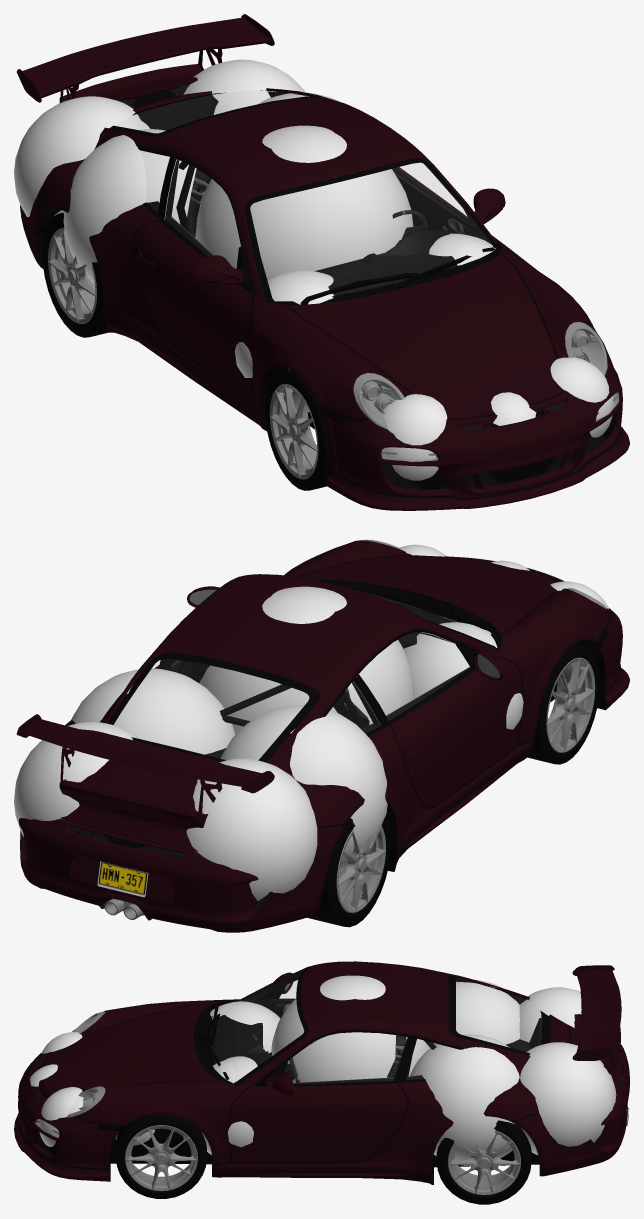
The model's file is Sportscar.glb.
3 views of the same model, one above another, from view 1: azimuth 30°, elevation 25°; view 2: azimuth 150°, elevation 25°; view 3: azimuth 270°, elevation 25° (orthographic). The views are drawn at different scales.
Parts seen in each view (by area): view 1: body, Sphere.003, door_front_right, Sphere.010, Sphere.006, wheel_front_right, wheel_rear_right, Sphere.008, Sphere.004, door_front_left, Sphere, Sphere.007 (+2 smaller); view 2: body, door_front_right, Sphere.006, Sphere.010, Sphere.003, Sphere.005, wheel_front_right, wheel_rear_right, Sphere.004, Sphere.007, door_front_left; view 3: body, door_front_left, Sphere.005, Sphere.004, Sphere.003, wheel_front_left, wheel_rear_left, Sphere.010, Sphere.006, Sphere.007, Sphere.001, Sphere (+2 smaller).
Part boxes in pixels (x1,y1,x2,y2): body: [16, 14, 629, 510]; Sphere.003: [195, 125, 413, 280]; door_front_right: [133, 216, 253, 402]; Sphere.010: [63, 129, 196, 283]; Sphere.006: [14, 96, 150, 216]; wheel_front_right: [265, 370, 329, 490]; wheel_rear_right: [42, 213, 108, 337]; Sphere.008: [383, 394, 447, 480]; Sphere.004: [183, 59, 305, 114]; door_front_left: [392, 167, 505, 242]; Sphere: [550, 357, 613, 437]; Sphere.007: [235, 270, 333, 412]; body: [16, 539, 629, 932]; door_front_right: [386, 643, 522, 807]; Sphere.006: [186, 758, 317, 900]; Sphere.010: [220, 705, 387, 871]; Sphere.003: [199, 586, 414, 734]; Sphere.005: [71, 668, 235, 754]; wheel_front_right: [527, 643, 599, 764]; wheel_rear_right: [307, 815, 391, 927]; Sphere.004: [14, 722, 140, 837]; Sphere.007: [403, 622, 523, 729]; door_front_left: [154, 586, 219, 675]; body: [14, 961, 629, 1184]; door_front_left: [230, 1061, 407, 1162]; Sphere.005: [409, 1034, 519, 1165]; Sphere.004: [520, 1042, 616, 1154]; Sphere.003: [271, 975, 433, 1082]; wheel_front_left: [116, 1114, 206, 1198]; wheel_rear_left: [436, 1120, 531, 1204]; Sphere.010: [434, 979, 519, 1044]; Sphere.006: [519, 987, 581, 1042]; Sphere.007: [210, 1001, 280, 1053]; Sphere.001: [202, 1056, 257, 1154]; Sphere: [38, 1087, 83, 1146].
Size of what is drawn, in the model's own units: 2.41 by 1.66 by 5.45.
10 materials, 4 textured.
